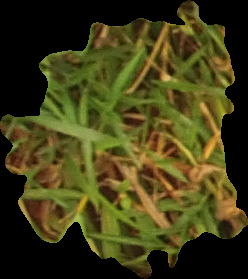grass: (1, 1, 247, 278)
